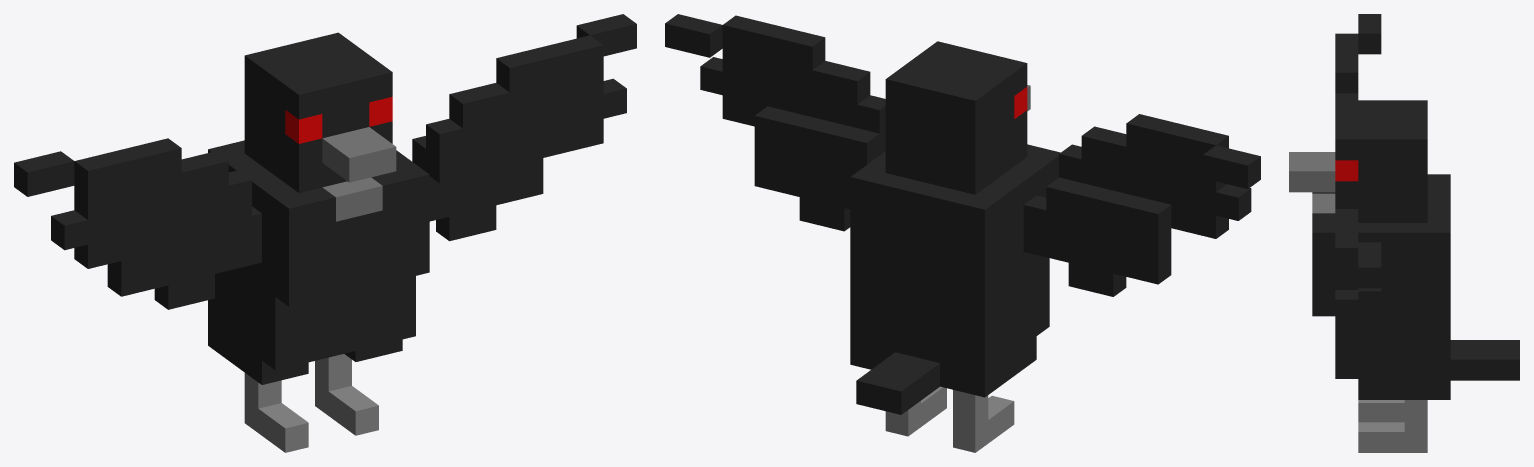
File: crow.obj
3 views of the same model, side by side, from view 1: azimuth 30°, elevation 25°; view 2: azimuth 150°, elevation 25°; view 3: azimuth 270°, elevation 25° (orthographic). The views are drawn at different scales.
Size of the model in its own units: 2.6 by 1.5 by 1.
Materials: 1 (1 with a texture image).
